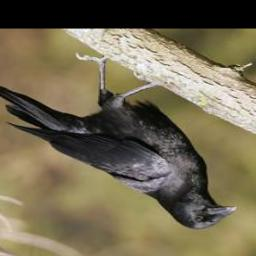Crow: (0, 49, 243, 232)
